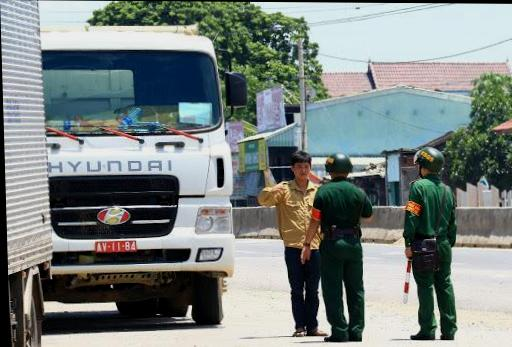License_Plate: (93, 240, 139, 252)
